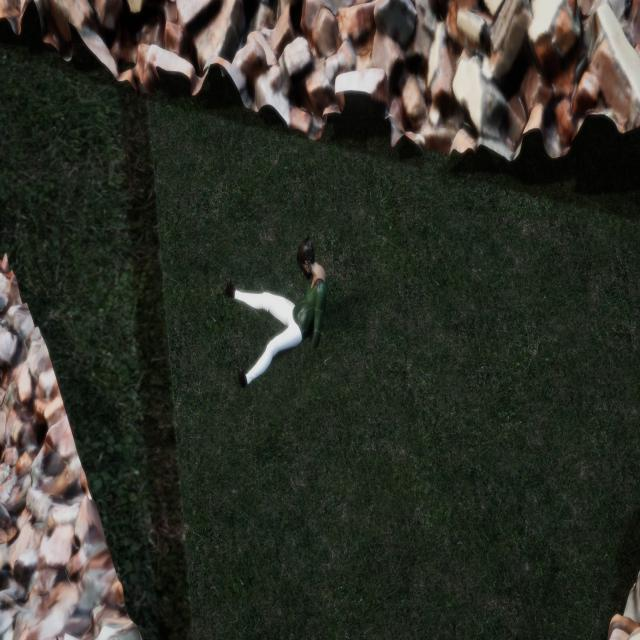Human: (222, 228, 336, 403)
